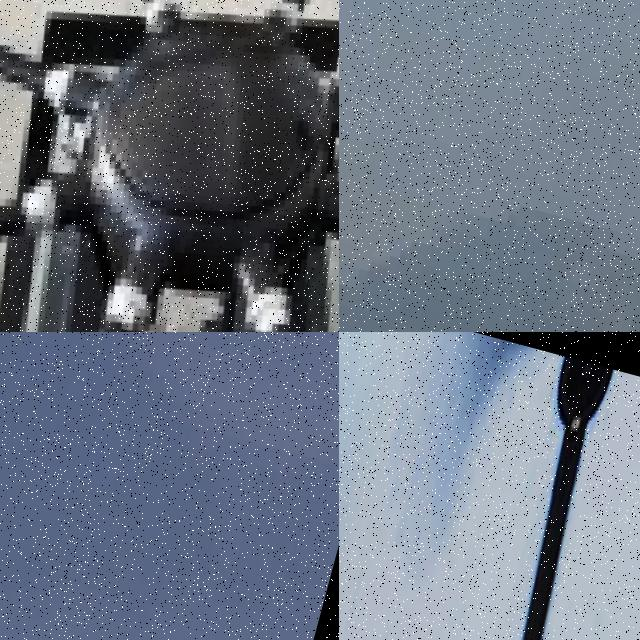drone: (0, 0, 339, 332)
